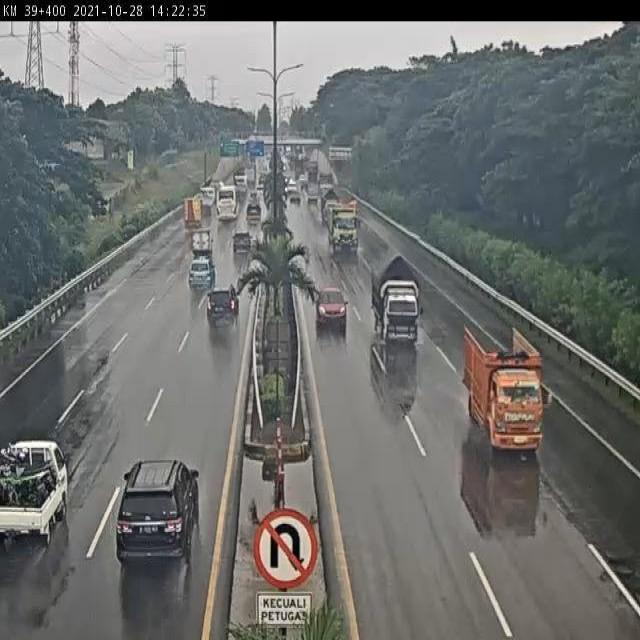car: (0, 438, 69, 546), (209, 283, 241, 320), (187, 256, 214, 289), (232, 227, 253, 250)
truck-l-: (327, 202, 362, 258)
truck-s-: (462, 321, 544, 459), (372, 255, 424, 349), (184, 195, 204, 224)
